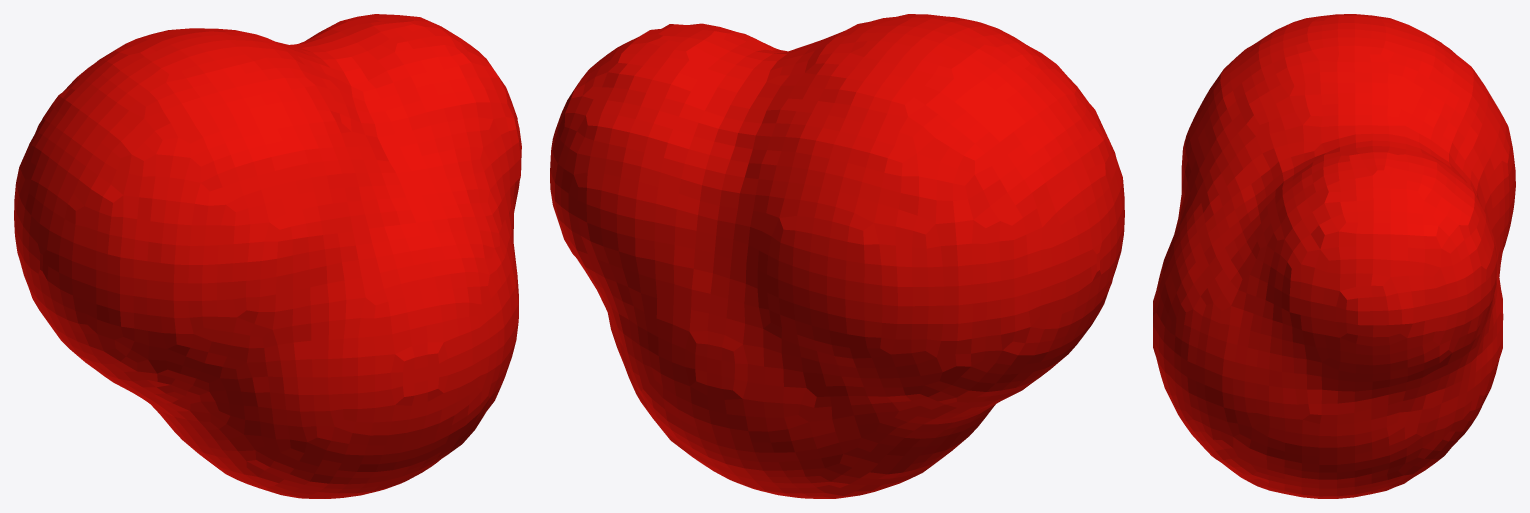
File: Smoke Particle.fbx
3 renders of one model, left to right at view 1: azimuth 30°, elevation 25°; view 2: azimuth 150°, elevation 25°; view 3: azimuth 270°, elevation 25°, orthographic. The views are drawn at different scales.
Parts seen in each view (by area): view 1: Sphere; view 2: Sphere; view 3: Sphere.
Part boxes in pixels (<box>): Sphere: <box>14,14,521,498</box>; Sphere: <box>550,14,1124,498</box>; Sphere: <box>1153,14,1515,498</box>.
Size of the model in its own units: 0.1012 by 0.0739 by 0.0914.
